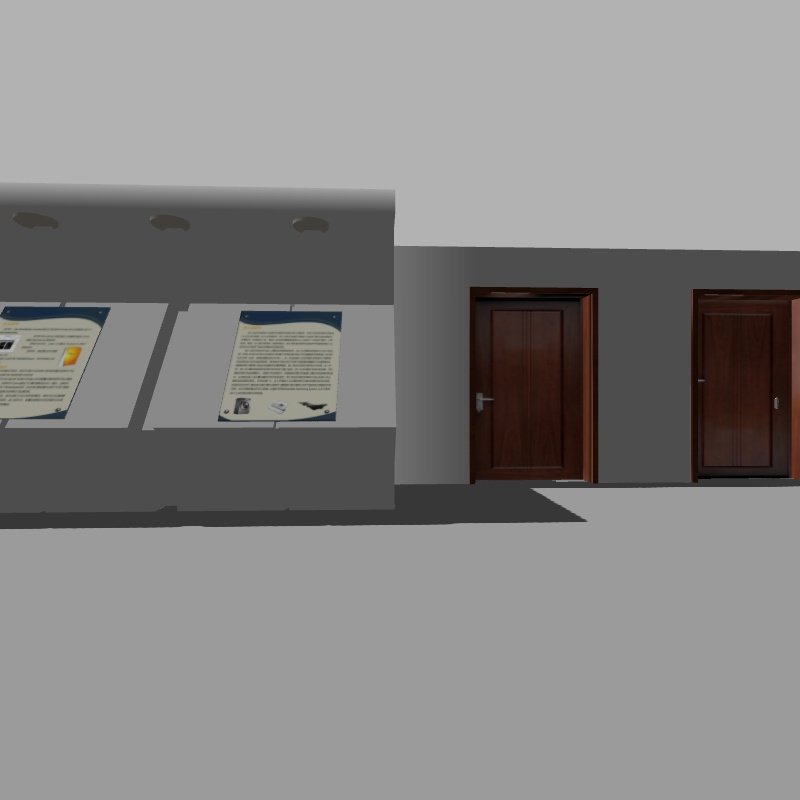handle: (468, 388, 496, 415), (689, 369, 710, 385)
